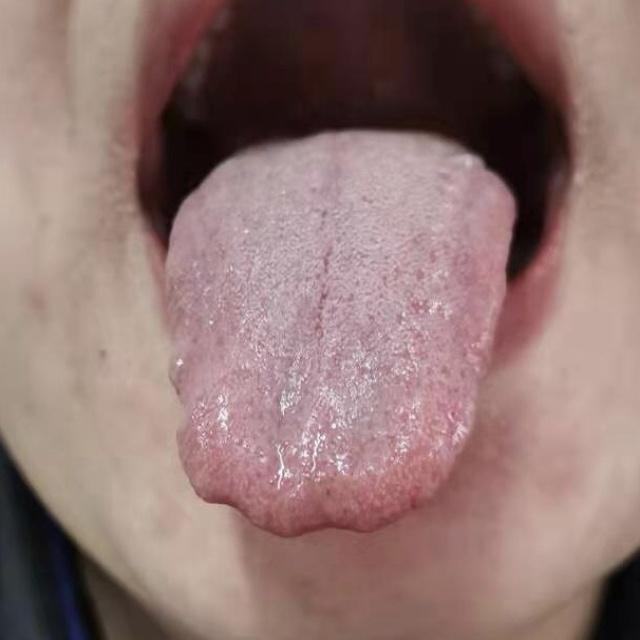baitaishe: (164, 128, 517, 539)
chihenshe: (166, 312, 197, 443), (195, 488, 264, 528)
xinfeiao: (288, 512, 369, 539)
